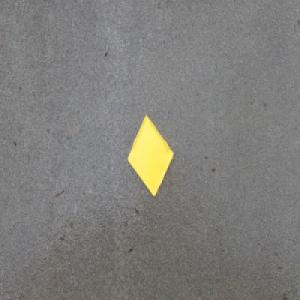PlasticPart: (126, 113, 174, 197)
